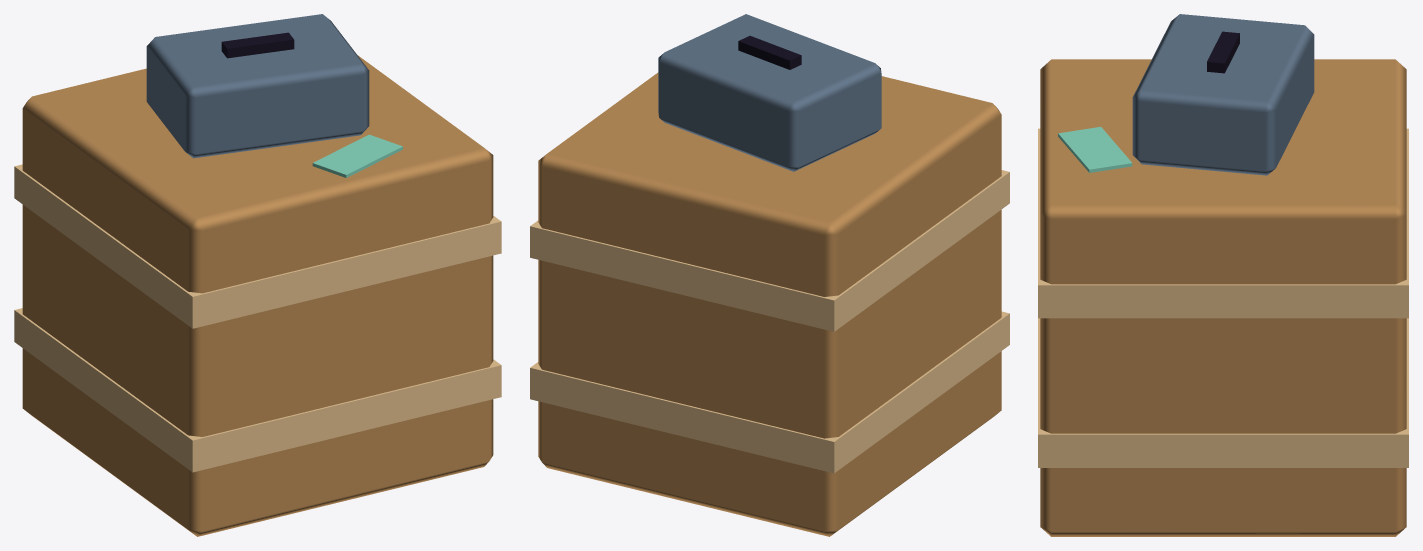
Rendered from station_special_ausstattung_2_0.glb.
3 renders of one model, left to right at view 1: azimuth 30°, elevation 25°; view 2: azimuth 150°, elevation 25°; view 3: azimuth 270°, elevation 25°, orthographic. The views are drawn at different scales.
Parts seen in each view (by area): view 1: station_special_ausstattung_2_0; view 2: station_special_ausstattung_2_0; view 3: station_special_ausstattung_2_0.
Boxes of the visible parts, box(x1,y1,x2,y2) form: station_special_ausstattung_2_0: box(14, 14, 501, 536); station_special_ausstattung_2_0: box(530, 14, 1009, 536); station_special_ausstattung_2_0: box(1038, 14, 1408, 536).
Bounding box in the file's own units: 0.405 × 0.502 × 0.405.
